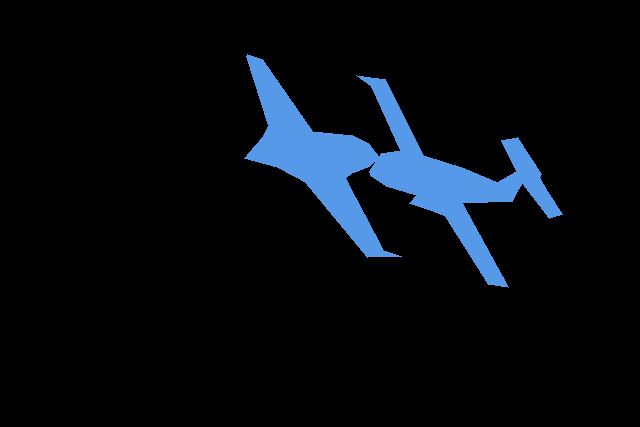Airplane: (244, 54, 562, 288)
